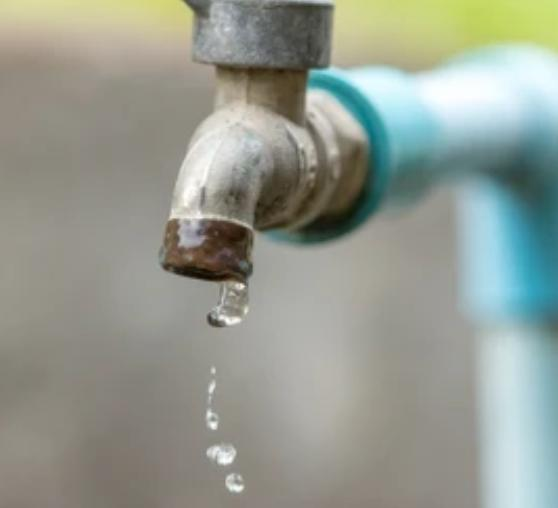water drop: (207, 276, 250, 329), (205, 368, 220, 432), (206, 442, 237, 465), (225, 470, 244, 493)
